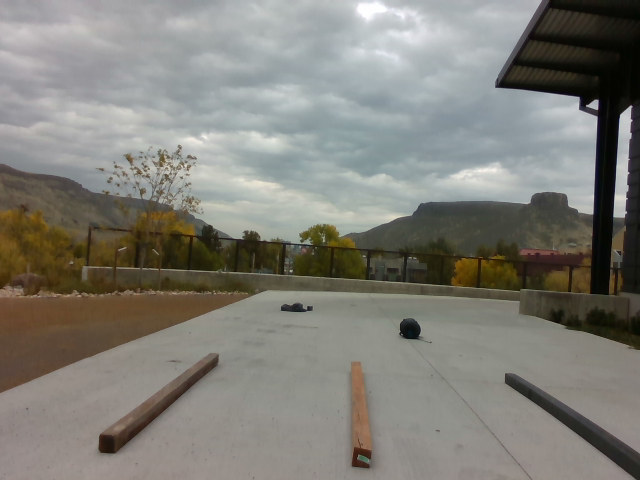dunnage: (93, 350, 640, 480)
